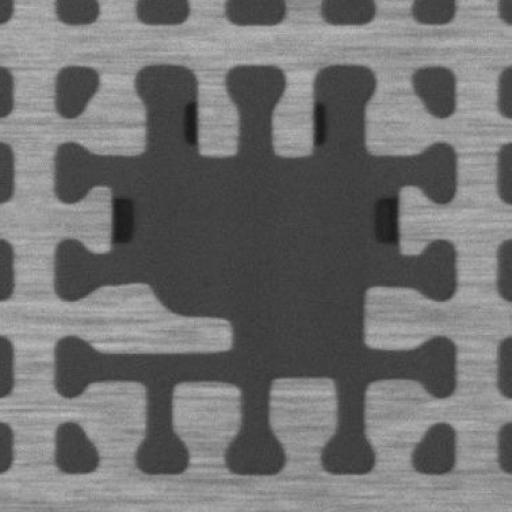NO_DIE: (50, 62, 453, 471)
